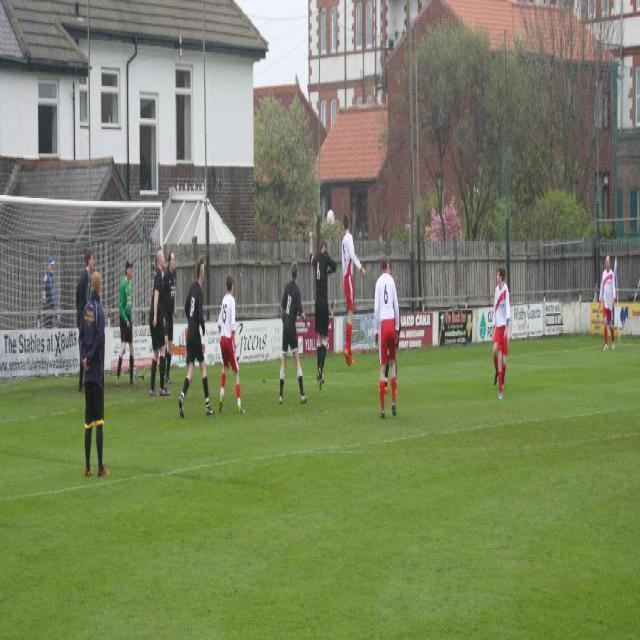football: (325, 210, 343, 229)
